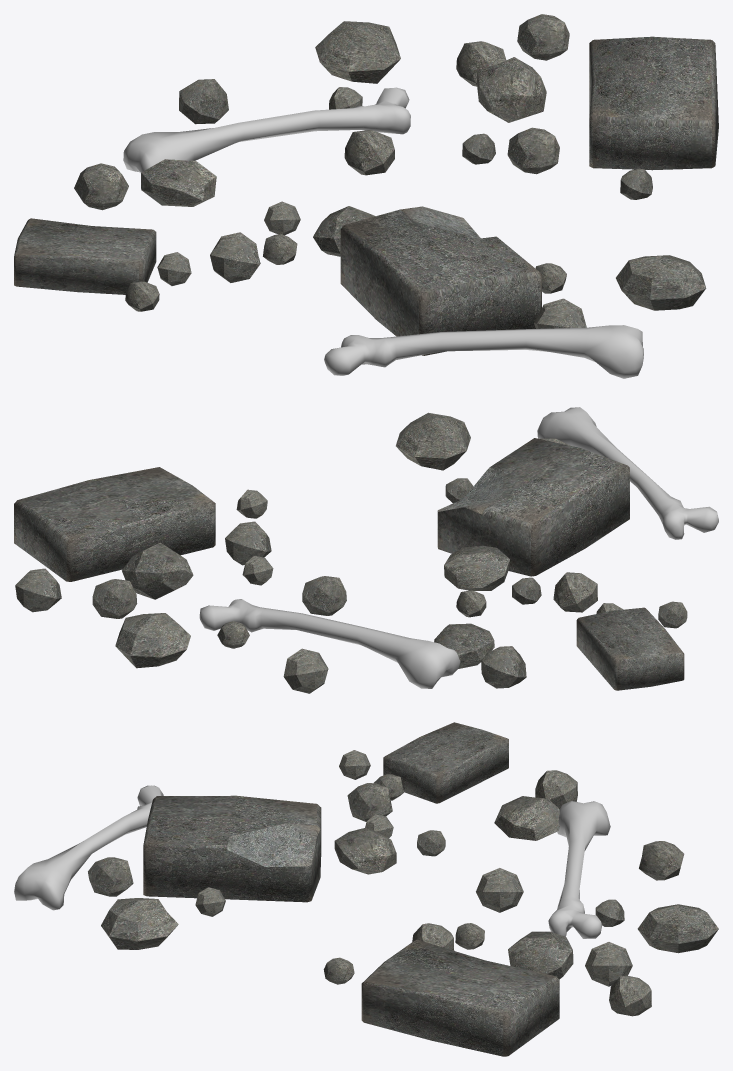
File: Debris_2.FBX
3 views of the same model, one above another, from view 1: azimuth 30°, elevation 25°; view 2: azimuth 150°, elevation 25°; view 3: azimuth 270°, elevation 25° (orthographic). The views are drawn at different scales.
Parts seen in each view (by area): view 1: Box04; view 2: Box04; view 3: Box04.
Boxes of the visible parts, left/top/right/bottom form: Box04: left=14, top=14, right=718, bottom=378; Box04: left=14, top=407, right=718, bottom=693; Box04: left=14, top=722, right=718, bottom=1056.
Bounding box in the file's own units: 144 × 12.35 × 139.
